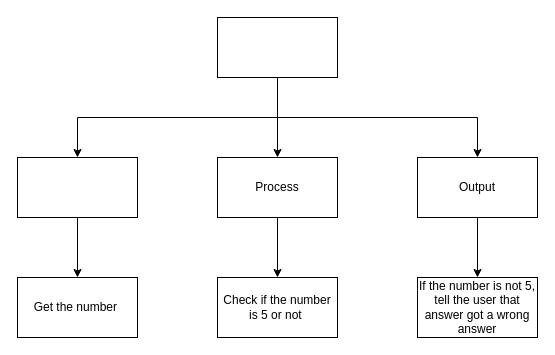
The diagram is 555 pixels wide and 355 high, and some of its shapes have lost their labels. Here are the shapes that lost their labels. From the top down, the centre of each, then its label:
At point (277, 47): "Guess the number".
At point (77, 187): "Input".
